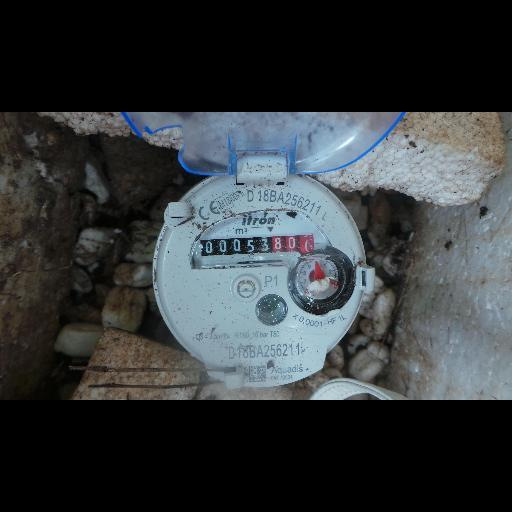0: (216, 239, 231, 256), (230, 238, 245, 255), (203, 240, 215, 257), (286, 236, 298, 253)
3: (258, 236, 273, 253)
5: (244, 237, 259, 254)
6: (300, 233, 315, 254)
8: (272, 236, 285, 253)
border_water_meter_number: (201, 233, 316, 260)
